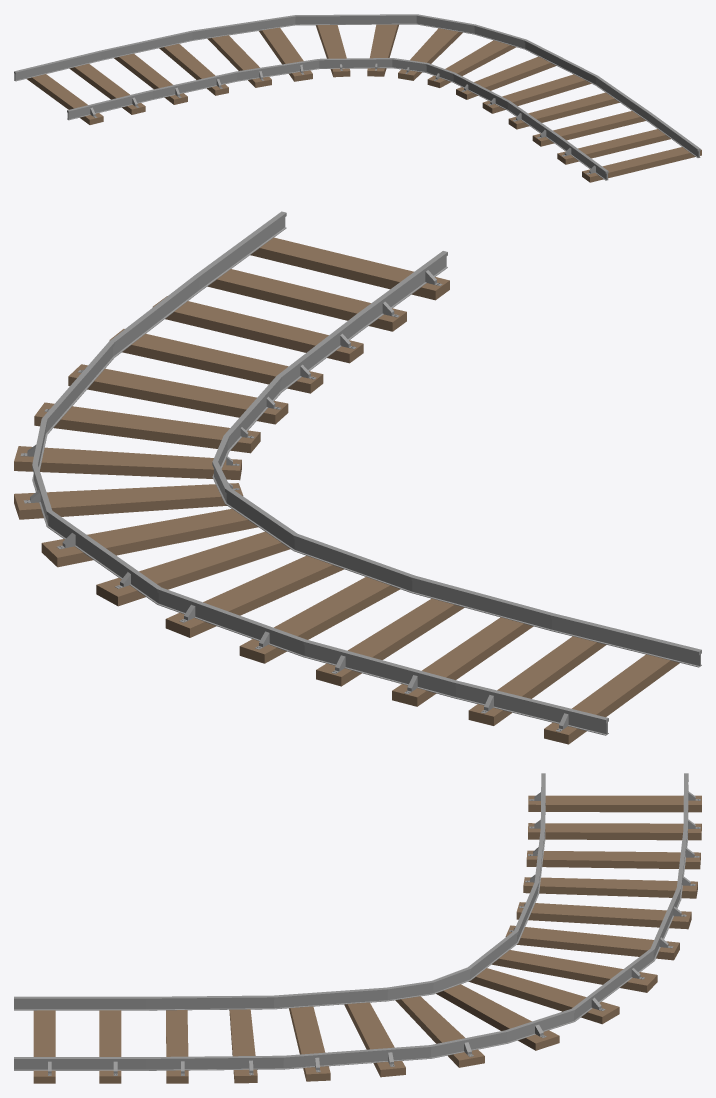
The model's file is Trilho curva em L.fbx.
The picture shows the model from 3 angles, top to bottom: view 1: azimuth 30°, elevation 25°; view 2: azimuth 150°, elevation 25°; view 3: azimuth 270°, elevation 25°; orthographic projection. The views are drawn at different scales.
Parts seen in each view (by area): view 1: Cube.007; view 2: Cube.007; view 3: Cube.007.
Boxes of the visible parts, x1,y1,x2,y2 form: Cube.007: (14, 14, 701, 182); Cube.007: (14, 211, 701, 744); Cube.007: (14, 773, 701, 1083).
Size of the model in its own units: 922 by 28.2 by 920.
